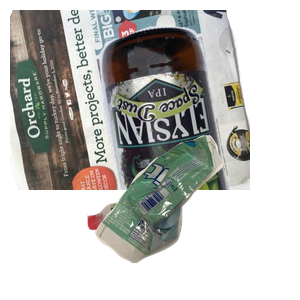glass: (97, 24, 300, 204)
paper: (10, 10, 250, 190)
plastic: (84, 191, 242, 300)
trash: (92, 133, 300, 300)
